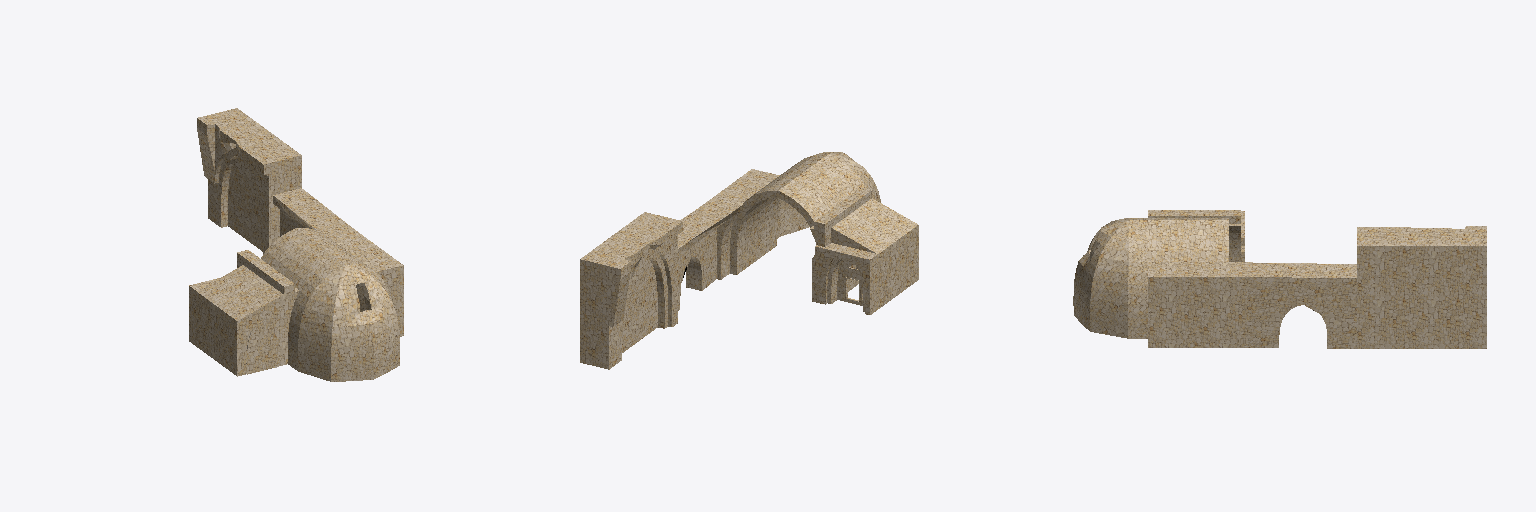
3 renders of one model, left to right at view 1: azimuth 30°, elevation 25°; view 2: azimuth 150°, elevation 25°; view 3: azimuth 270°, elevation 25°, orthographic.
Parts seen in each view (by area): view 1: BezierCurve.002_Mesh.007; view 2: BezierCurve.002_Mesh.007; view 3: BezierCurve.002_Mesh.007.
Part boxes in pixels (x1,y1,x2,y2): BezierCurve.002_Mesh.007: (189, 108, 403, 381); BezierCurve.002_Mesh.007: (580, 152, 918, 369); BezierCurve.002_Mesh.007: (1073, 210, 1486, 348).
Bounding box in the file's own units: 6.07 × 3.55 × 12.83.
Materials: 1 (1 with a texture image).